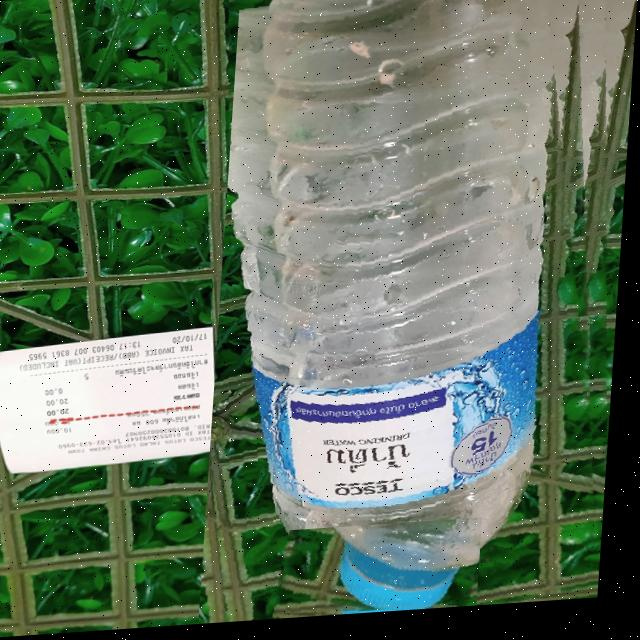litter: (206, 0, 638, 627), (285, 524, 489, 623)
